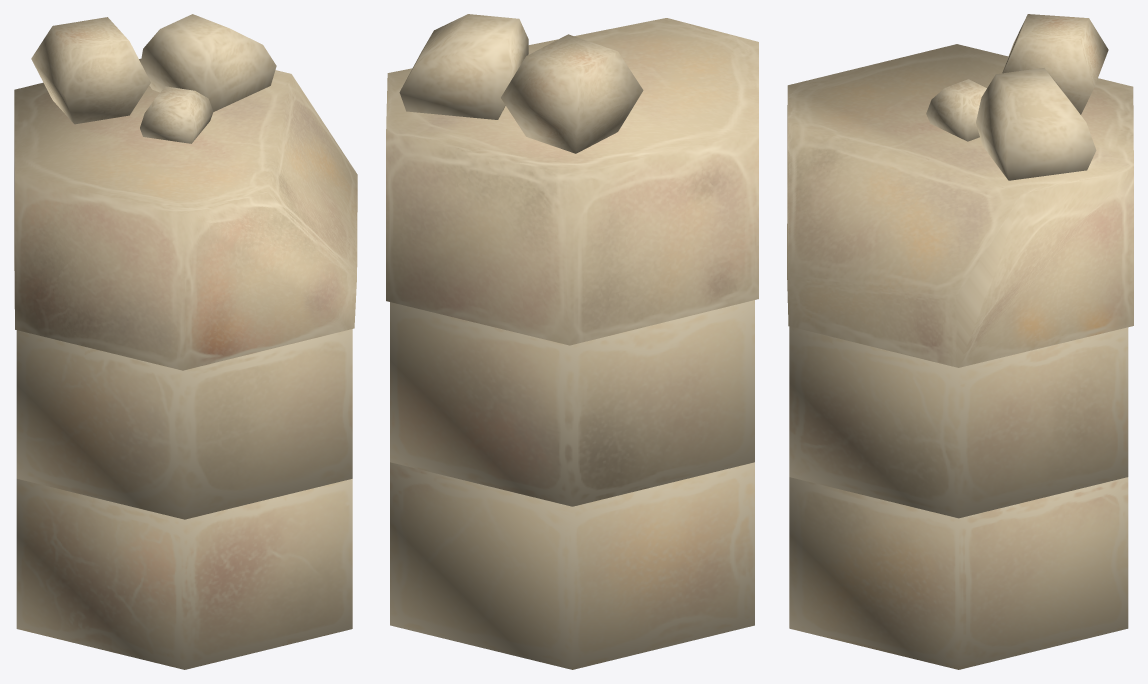
The model's file is minipillar1.fbx.
3 renders of one model, left to right at view 1: azimuth 30°, elevation 25°; view 2: azimuth 150°, elevation 25°; view 3: azimuth 270°, elevation 25°, orthographic. The views are drawn at different scales.
Visible parts, largest first — view 1: exteriorpillar3; view 2: exteriorpillar3; view 3: exteriorpillar3.
Part boxes in pixels (left/top/right/bottom): exteriorpillar3: left=14, top=14, right=357, bottom=669; exteriorpillar3: left=386, top=14, right=758, bottom=669; exteriorpillar3: left=787, top=14, right=1133, bottom=669.
Bounding box in the file's own units: 2.2 × 3.26 × 1.91.
